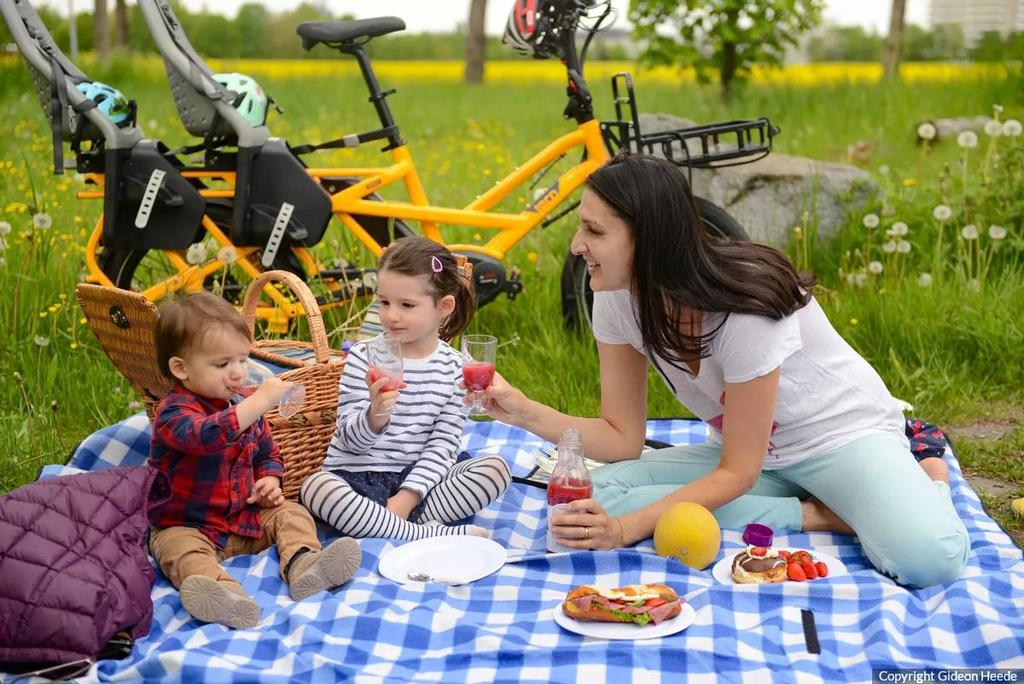child: (130, 287, 357, 621), (321, 225, 507, 553)
